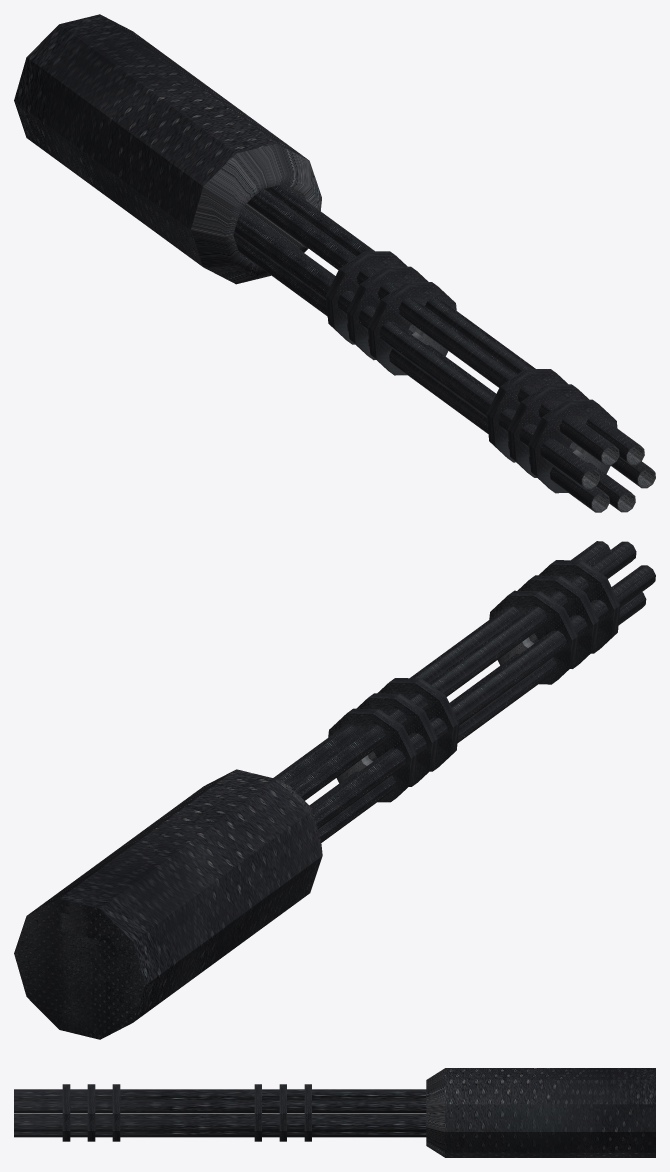
File: ChainGun.fbx
The picture shows the model from 3 angles, top to bottom: view 1: azimuth 30°, elevation 25°; view 2: azimuth 150°, elevation 25°; view 3: azimuth 270°, elevation 25°; orthographic projection. The views are drawn at different scales.
Parts seen in each view (by area): view 1: Base, Barrel; view 2: Base, Barrel; view 3: Barrel, Base.
Part boxes in pixels (left/top/right/bottom): Base: left=14, top=14, right=321, bottom=284; Barrel: left=233, top=184, right=655, bottom=512; Base: left=14, top=769, right=322, bottom=1039; Barrel: left=273, top=541, right=655, bottom=842; Barrel: left=14, top=1084, right=426, bottom=1141; Base: left=426, top=1068, right=655, bottom=1157.
Bounding box in the file's own units: 3.44 × 3.27 × 24.39.
2 materials, 2 textured.
